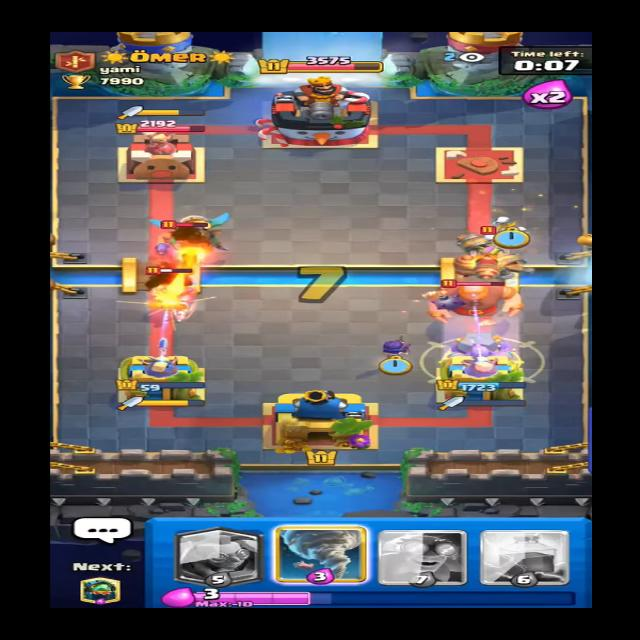Fisherman: (155, 220, 226, 262)
Giant: (421, 272, 534, 322)
Goblinmachine: (432, 234, 539, 277)
Prince: (146, 272, 202, 320)
